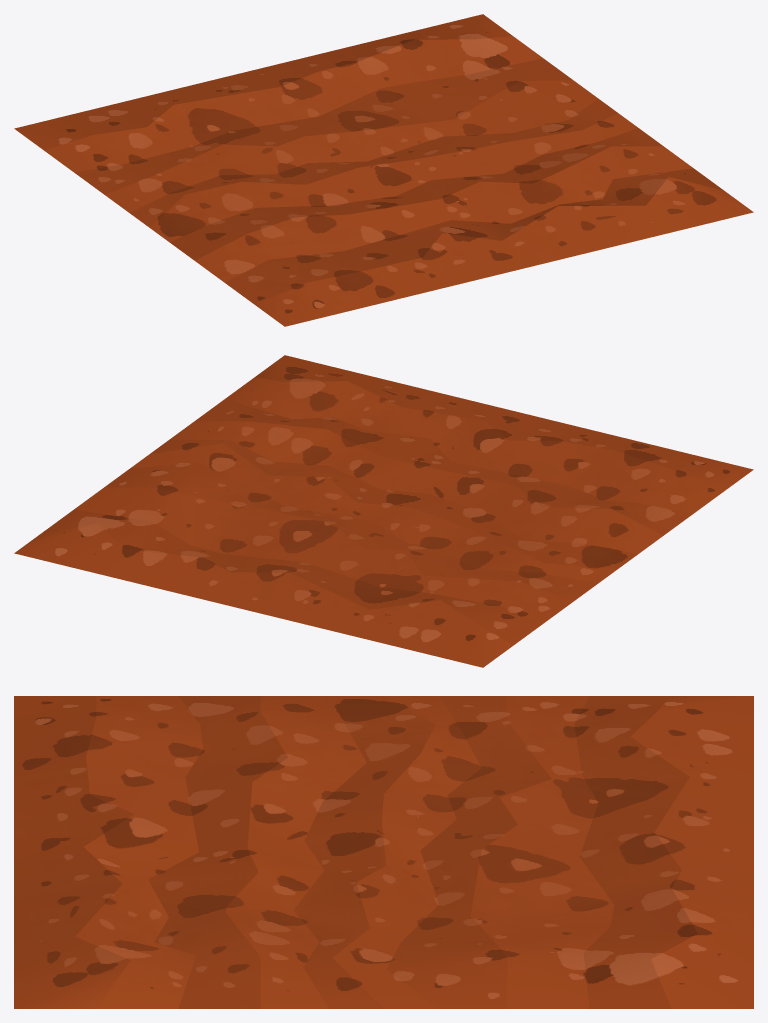
The model's file is Soil Sharp 2x2.fbx.
The picture shows the model from 3 angles, top to bottom: view 1: azimuth 30°, elevation 25°; view 2: azimuth 150°, elevation 25°; view 3: azimuth 270°, elevation 25°; orthographic projection. The views are drawn at different scales.
Visible parts, largest first — view 1: Dirt_Block1; view 2: Dirt_Block1; view 3: Dirt_Block1.
Boxes of the visible parts, x1=… form: Dirt_Block1: x1=14, y1=14, x2=753, y2=326; Dirt_Block1: x1=14, y1=355, x2=753, y2=667; Dirt_Block1: x1=14, y1=696, x2=753, y2=1008.
Bounding box in the file's own units: 2 × 0.062 × 2.
Materials: 1 (1 with a texture image).
